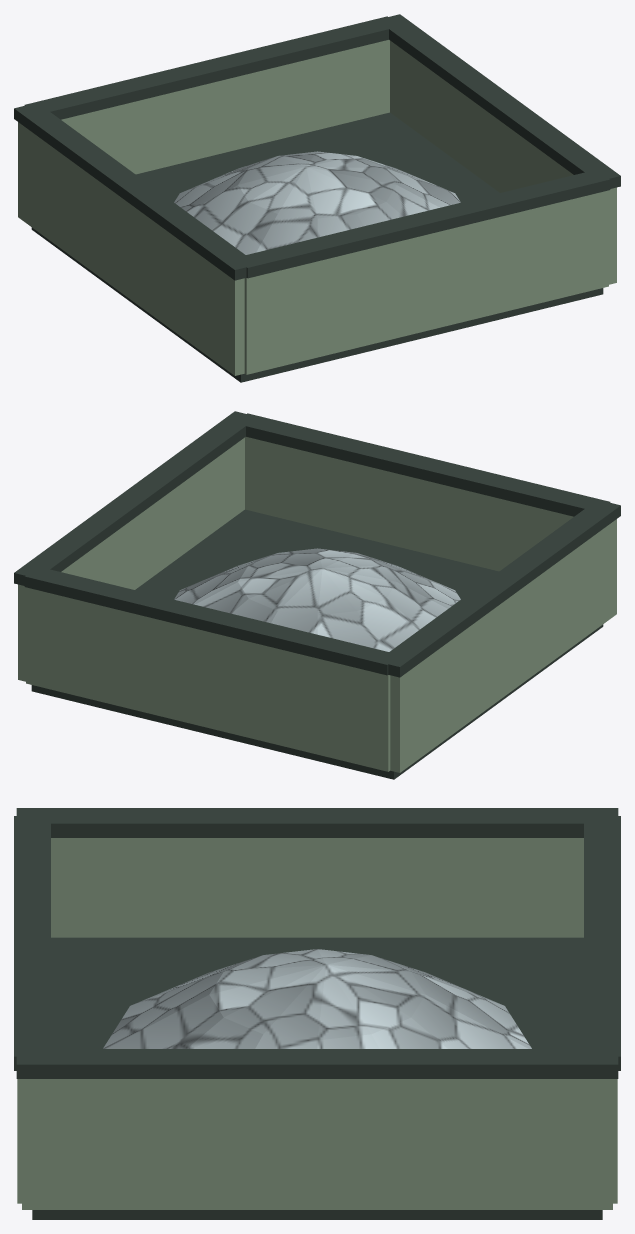
Rendered from bulk-half.glb.
3 views of the same model, one above another, from view 1: azimuth 30°, elevation 25°; view 2: azimuth 150°, elevation 25°; view 3: azimuth 270°, elevation 25° (orthographic). The views are drawn at different scales.
Parts seen in each view (by area): view 1: Mesh_CargoContainer_sage, Mesh_CargoContainer_ink, Textured aggregate heap; view 2: Mesh_CargoContainer_sage, Mesh_CargoContainer_ink, Textured aggregate heap; view 3: Mesh_CargoContainer_sage, Mesh_CargoContainer_ink, Textured aggregate heap.
Part boxes in pixels (x1,y1,x2,y2): Mesh_CargoContainer_sage: (18, 40, 616, 375); Mesh_CargoContainer_ink: (14, 14, 620, 382); Textured aggregate heap: (174, 151, 460, 254); Mesh_CargoContainer_sage: (18, 437, 616, 772); Mesh_CargoContainer_ink: (14, 411, 620, 779); Textured aggregate heap: (174, 548, 460, 651); Mesh_CargoContainer_sage: (17, 838, 617, 1209); Mesh_CargoContainer_ink: (14, 808, 620, 1219); Textured aggregate heap: (103, 949, 531, 1048).
Bounding box in the file's own units: 0.575 × 0.1705 × 0.575.
Materials: 3 (1 with a texture image).
